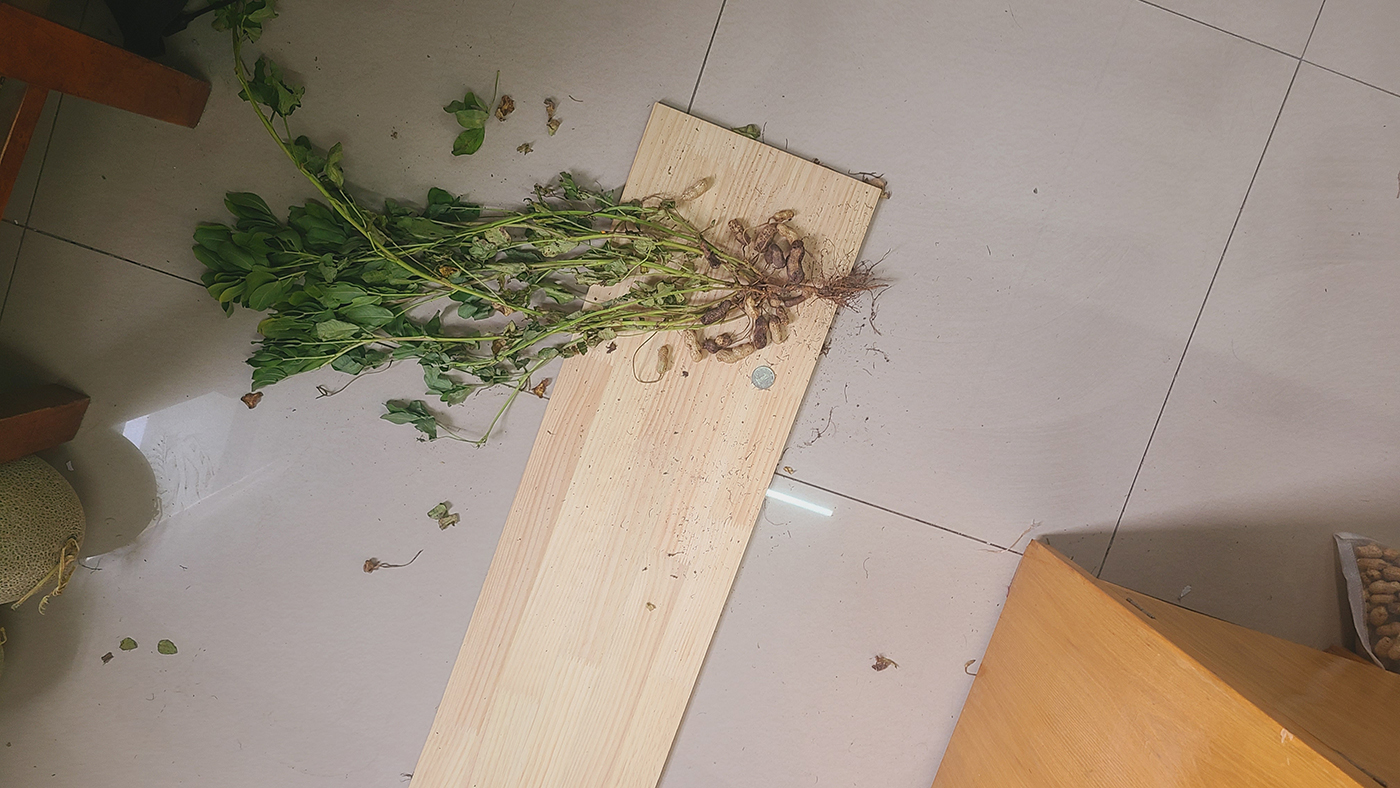h: (715, 343, 754, 364), (683, 328, 702, 362), (680, 179, 707, 201), (777, 222, 799, 244), (769, 315, 783, 343), (656, 345, 669, 375), (743, 297, 759, 319), (773, 209, 794, 222), (769, 292, 780, 307)
l: (786, 238, 806, 285), (700, 299, 732, 325), (698, 240, 721, 269), (728, 218, 751, 246), (754, 224, 777, 252), (754, 316, 768, 349), (784, 290, 810, 306), (770, 242, 785, 269), (701, 339, 719, 354), (776, 306, 789, 326), (764, 248, 773, 264)
